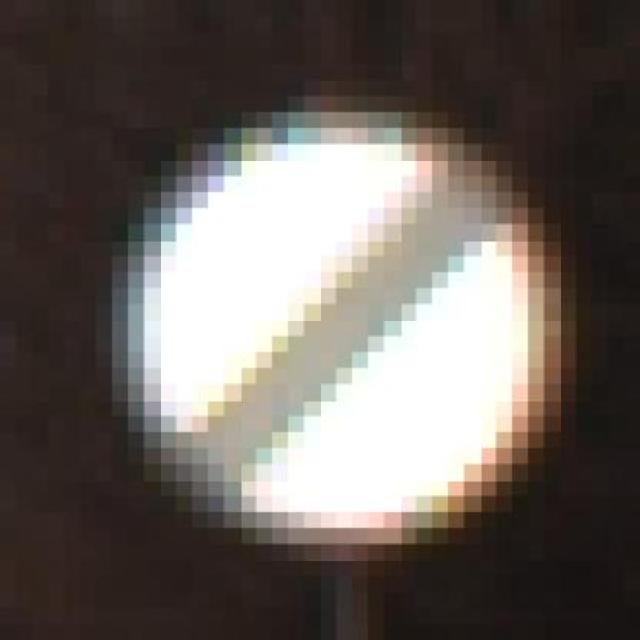End of all speed and passing limits: (95, 79, 592, 576)
